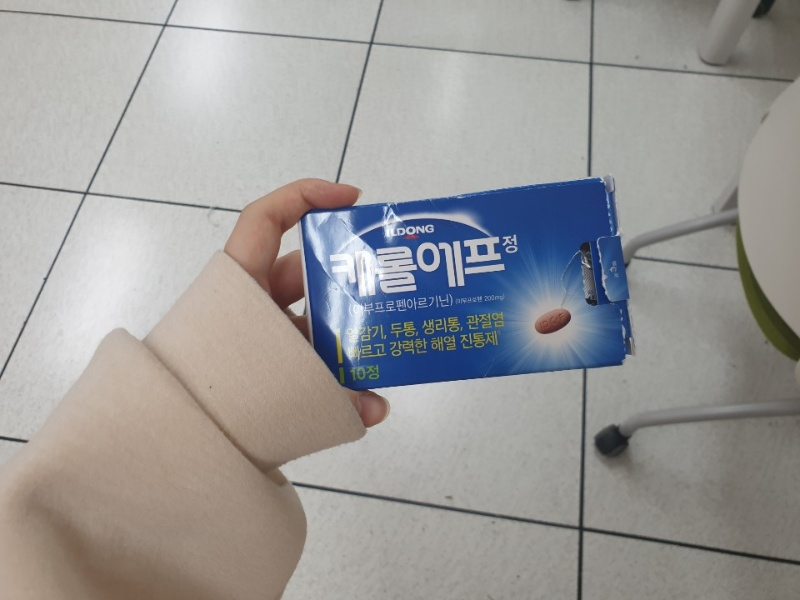carolF: (298, 176, 633, 386)
